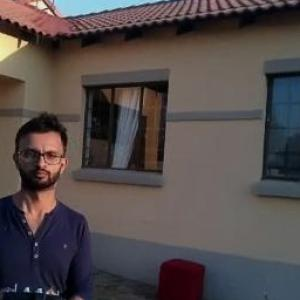follow: (0, 100, 107, 298)
